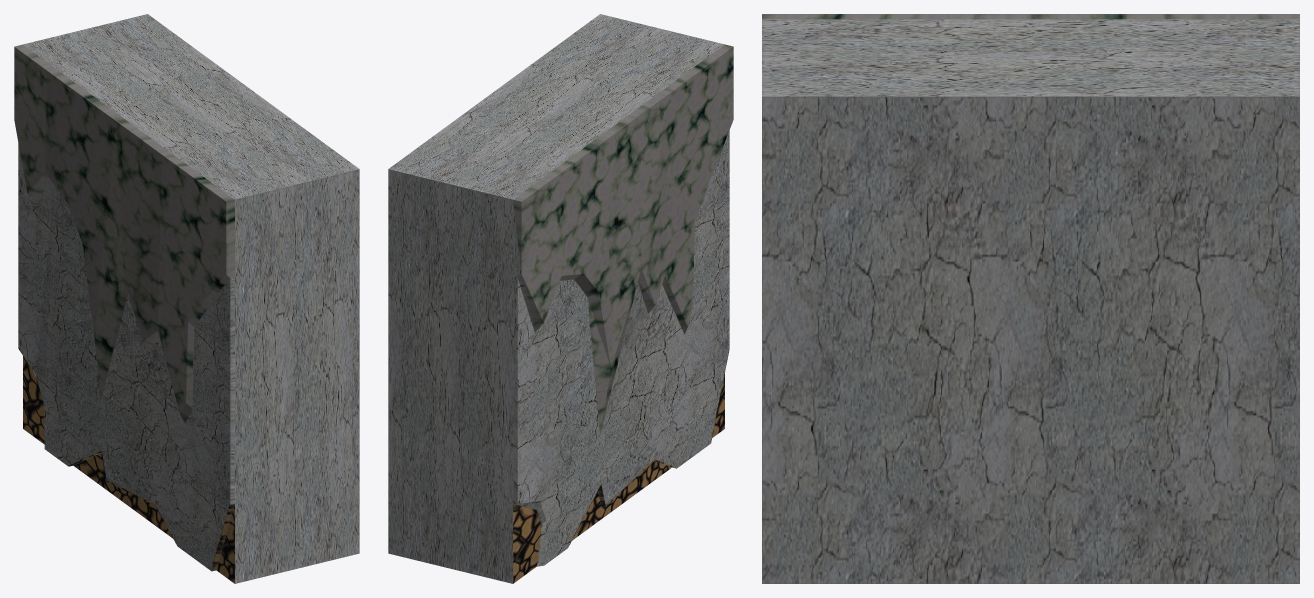
The model's file is EspacioPirateriaParedExteriorNS.gltf.
3 views of the same model, side by side, from view 1: azimuth 30°, elevation 25°; view 2: azimuth 150°, elevation 25°; view 3: azimuth 270°, elevation 25° (orthographic). The views are drawn at different scales.
Parts seen in each view (by area): view 1: Cubo.24; view 2: Cubo.24; view 3: Cubo.24.
Part boxes in pixels (x1,y1,x2,y2): Cubo.24: (14, 14, 359, 583); Cubo.24: (388, 14, 733, 583); Cubo.24: (762, 14, 1299, 583).
Size of the model in its own units: 0.7517 by 2 by 2.
Materials: 1 (1 with a texture image).
